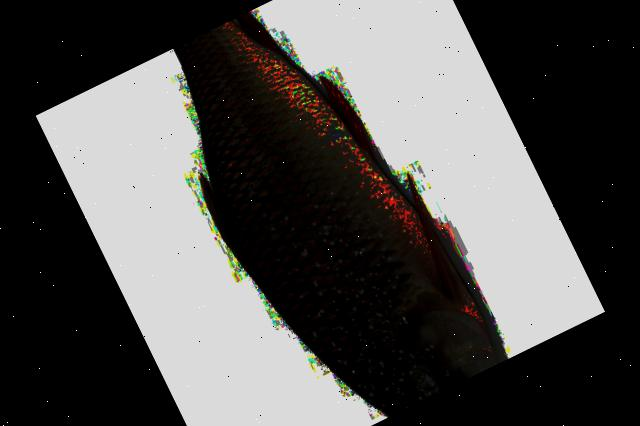Ichthyophthirius -White Spots-: (174, 12, 498, 415), (174, 12, 498, 415), (174, 12, 498, 415)
